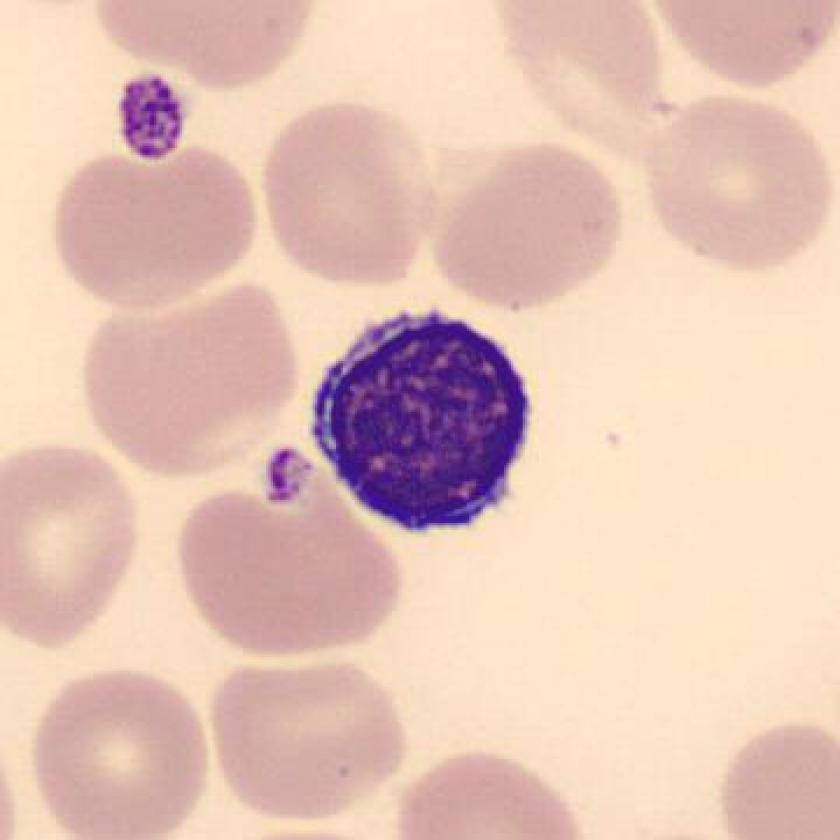lymphocyte: (293, 298, 554, 550)
platelets: (113, 66, 189, 169), (258, 441, 317, 516)
